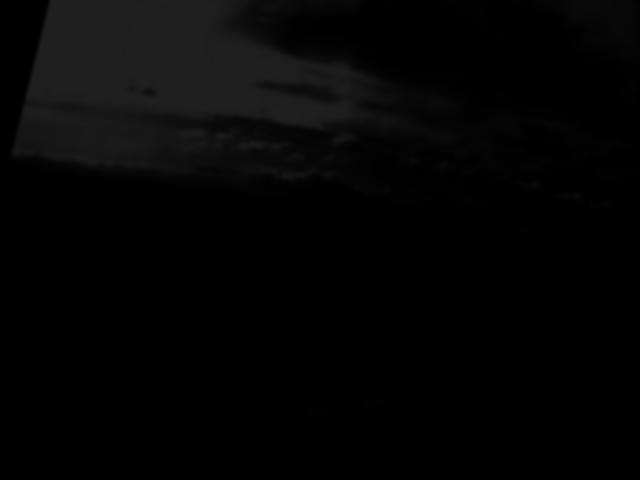hedef: (291, 377, 398, 454)
